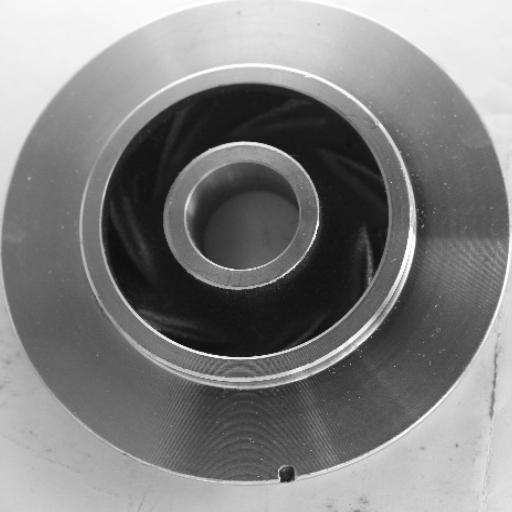pit: (267, 456, 310, 498)
unpolished_casting: (2, 0, 509, 488)
